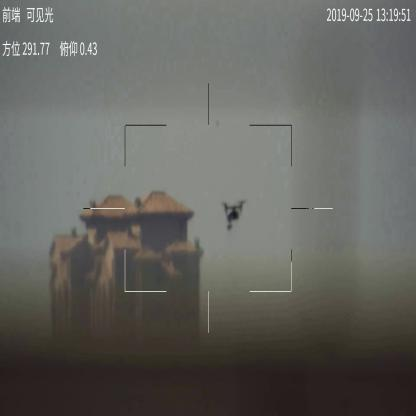uav: (222, 195, 246, 229)
